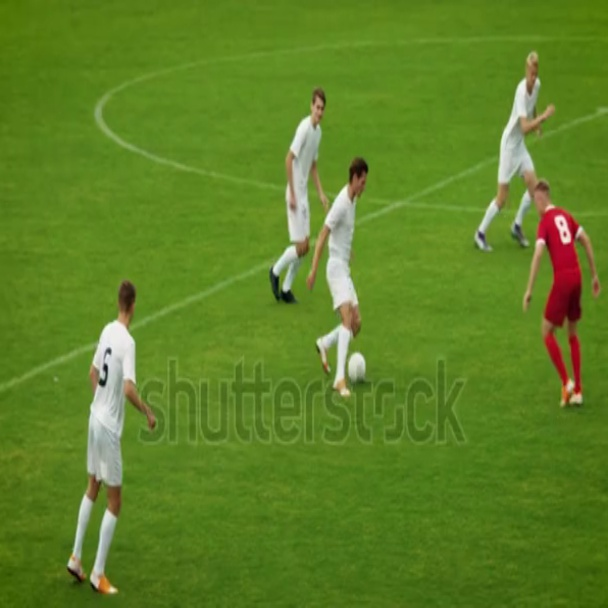ball: (351, 349, 366, 383)
